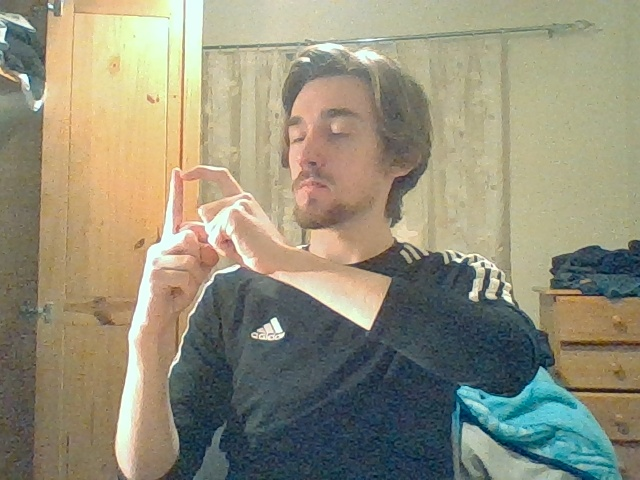daughter: (150, 165, 260, 287)
